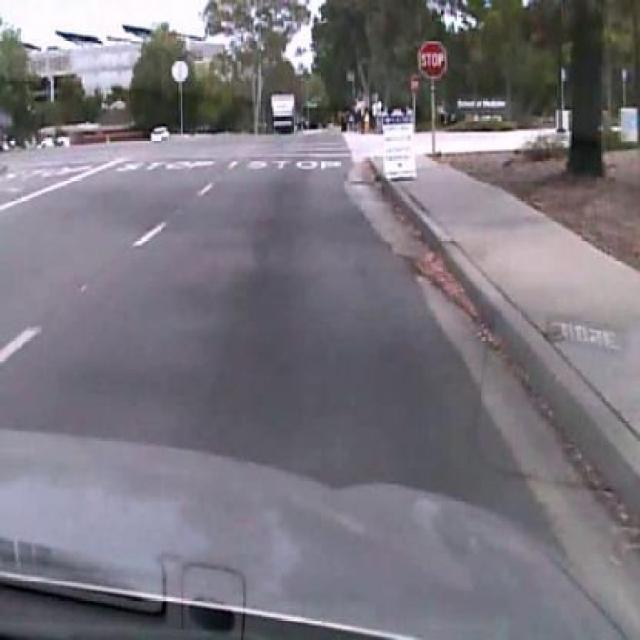Stop: (418, 37, 448, 80)
